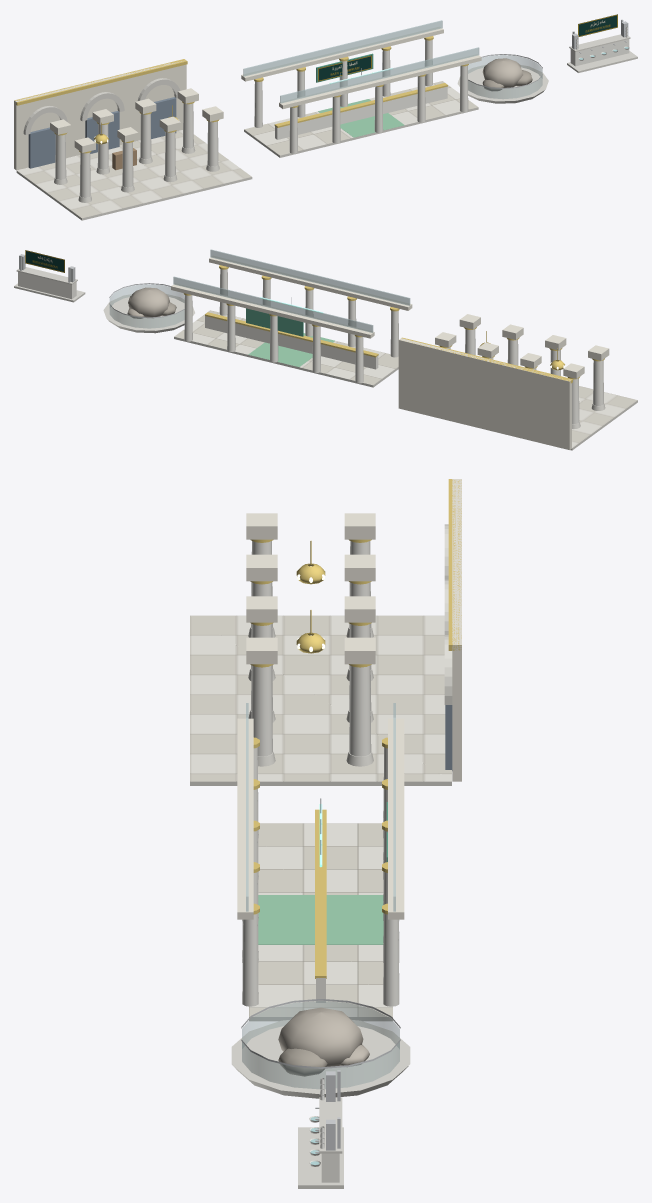
File: kit-45-interior-haram.glb
3 views of the same model, one above another, from view 1: azimuth 30°, elevation 25°; view 2: azimuth 150°, elevation 25°; view 3: azimuth 270°, elevation 25° (orthographic). The views are drawn at different scales.
Parts seen in each view (by area): view 1: HaramIn_RuangShalat, HaramIn_KoridorSai, HaramIn_BukitSafa, HaramIn_StasiunZamzam; view 2: HaramIn_RuangShalat, HaramIn_KoridorSai, HaramIn_BukitSafa, HaramIn_StasiunZamzam; view 3: HaramIn_RuangShalat, HaramIn_KoridorSai, HaramIn_BukitSafa, HaramIn_StasiunZamzam.
Boxes of the visible parts, box(x1,y1,x2,y2) form: HaramIn_RuangShalat: box(14, 59, 252, 220); HaramIn_KoridorSai: box(241, 20, 481, 157); HaramIn_BukitSafa: box(457, 54, 548, 103); HaramIn_StasiunZamzam: box(567, 14, 637, 72); HaramIn_RuangShalat: box(398, 314, 637, 450); HaramIn_KoridorSai: box(171, 249, 412, 387); HaramIn_BukitSafa: box(103, 283, 194, 333); HaramIn_StasiunZamzam: box(14, 250, 85, 302); HaramIn_RuangShalat: box(190, 479, 461, 785); HaramIn_KoridorSai: box(237, 703, 404, 1021); HaramIn_BukitSafa: box(231, 999, 410, 1098); HaramIn_StasiunZamzam: box(298, 1070, 343, 1188).
Bounding box in the file's own units: 41.1 × 4.86 × 8.31.
21 materials, 3 textured.
